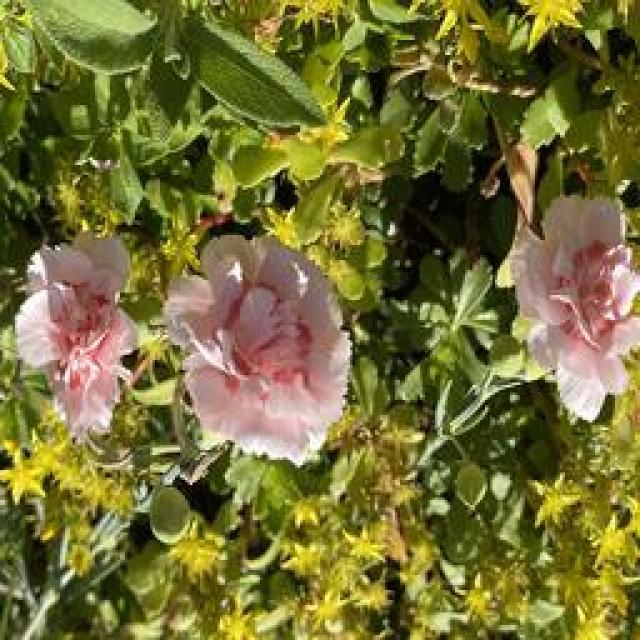carnation: (158, 219, 377, 465)
